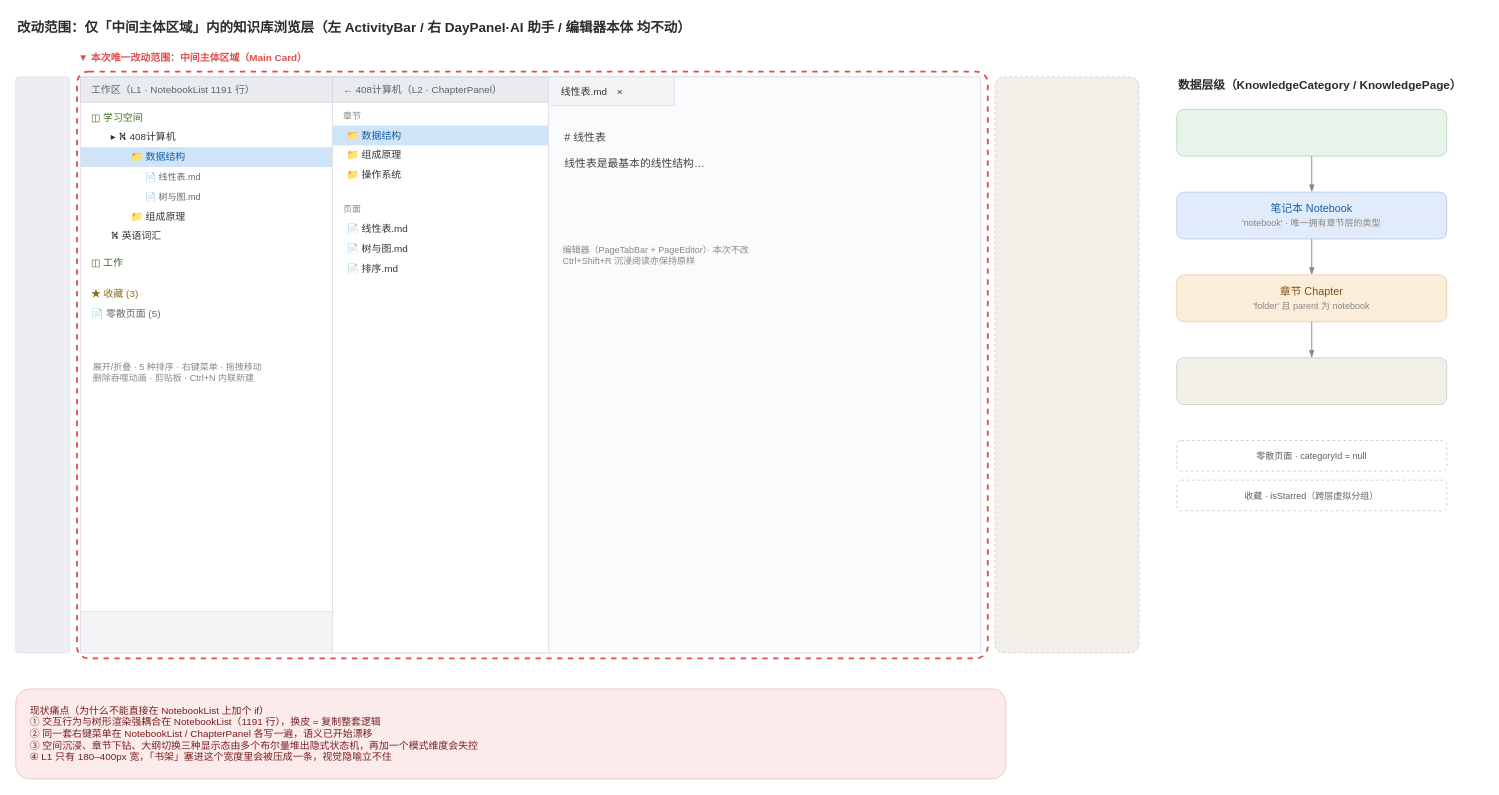
This 1499x795 diagram has some shape labels left out. The centre of each missing label's shape, as x and y in pixels:
"⚑ 错题本 / 收藏 🧩 插件视图入口" goes at (206,632).
"右 DayPanel AI 助手" goes at (1066,364).
"左 ActivityBar" goes at (42,364).
"空间 Space categoryType='space' · 顶层容器" goes at (1311,132).
"页面 Page categoryId 可指向章节/目录/空间/null" goes at (1311,381).
